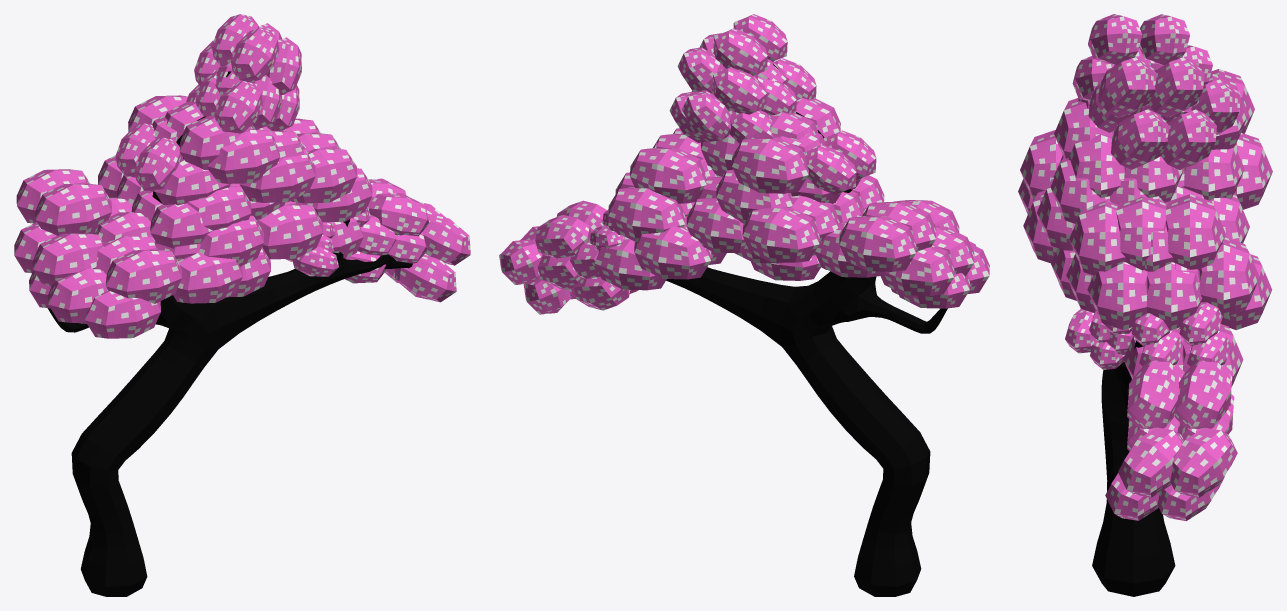
Rendered from BonsaiLowPoly.fbx.
3 renders of one model, left to right at view 1: azimuth 30°, elevation 25°; view 2: azimuth 150°, elevation 25°; view 3: azimuth 270°, elevation 25°, orthographic. The views are drawn at different scales.
Parts seen in each view (by area): view 1: Tree; view 2: Tree; view 3: Tree.
Boxes of the visible parts, x1,y1,x2,y2 form: Tree: [14, 14, 470, 596]; Tree: [499, 14, 989, 596]; Tree: [1018, 14, 1272, 596].
Bounding box in the file's own units: 1467 × 1689 × 593.
